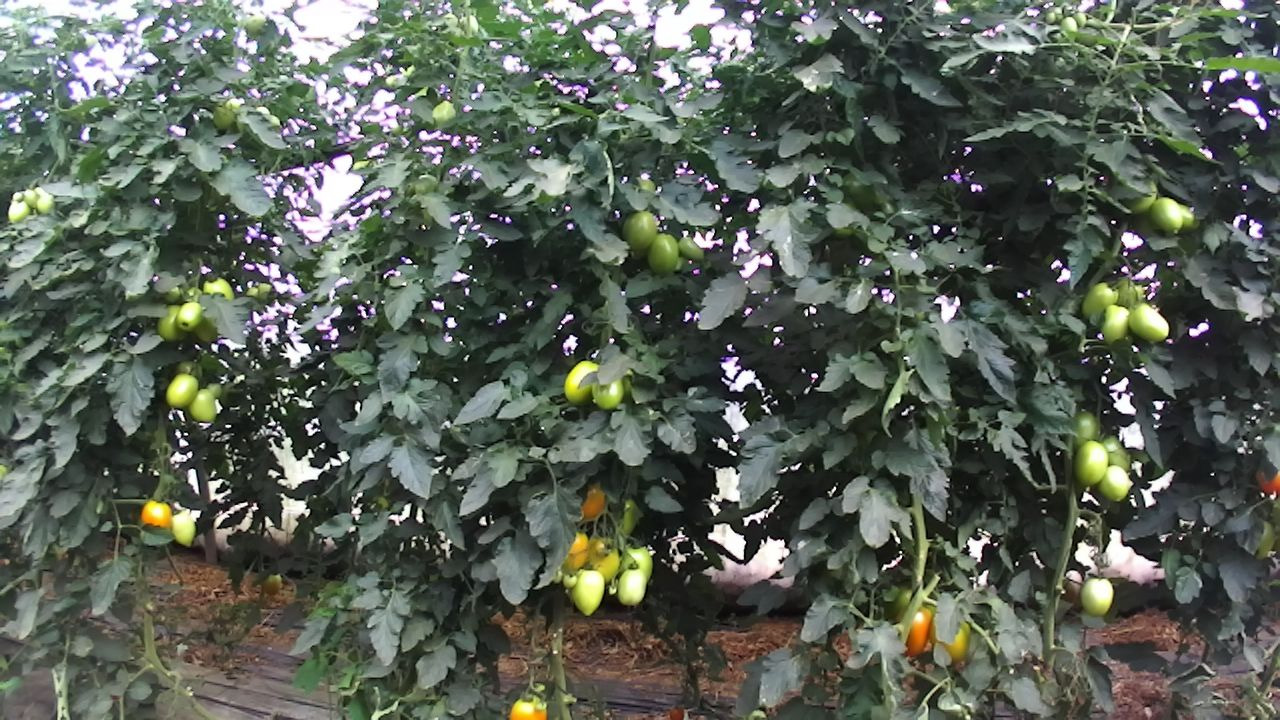tomato: (565, 565, 606, 618), (1072, 438, 1111, 489), (1126, 300, 1171, 344), (563, 358, 602, 407), (1077, 278, 1120, 322), (644, 231, 681, 277), (588, 533, 620, 586), (1077, 576, 1116, 619), (620, 209, 658, 253), (903, 603, 933, 658), (1148, 194, 1184, 236), (614, 563, 648, 607), (1094, 463, 1130, 504), (163, 372, 201, 410), (1099, 302, 1131, 347), (507, 689, 549, 720), (186, 385, 219, 424), (155, 303, 187, 343), (165, 508, 197, 548), (590, 376, 625, 412), (137, 497, 174, 531), (173, 300, 206, 333), (676, 235, 705, 263), (6, 198, 32, 225), (261, 568, 284, 597), (559, 570, 577, 591), (668, 707, 682, 720), (11, 190, 23, 202)
